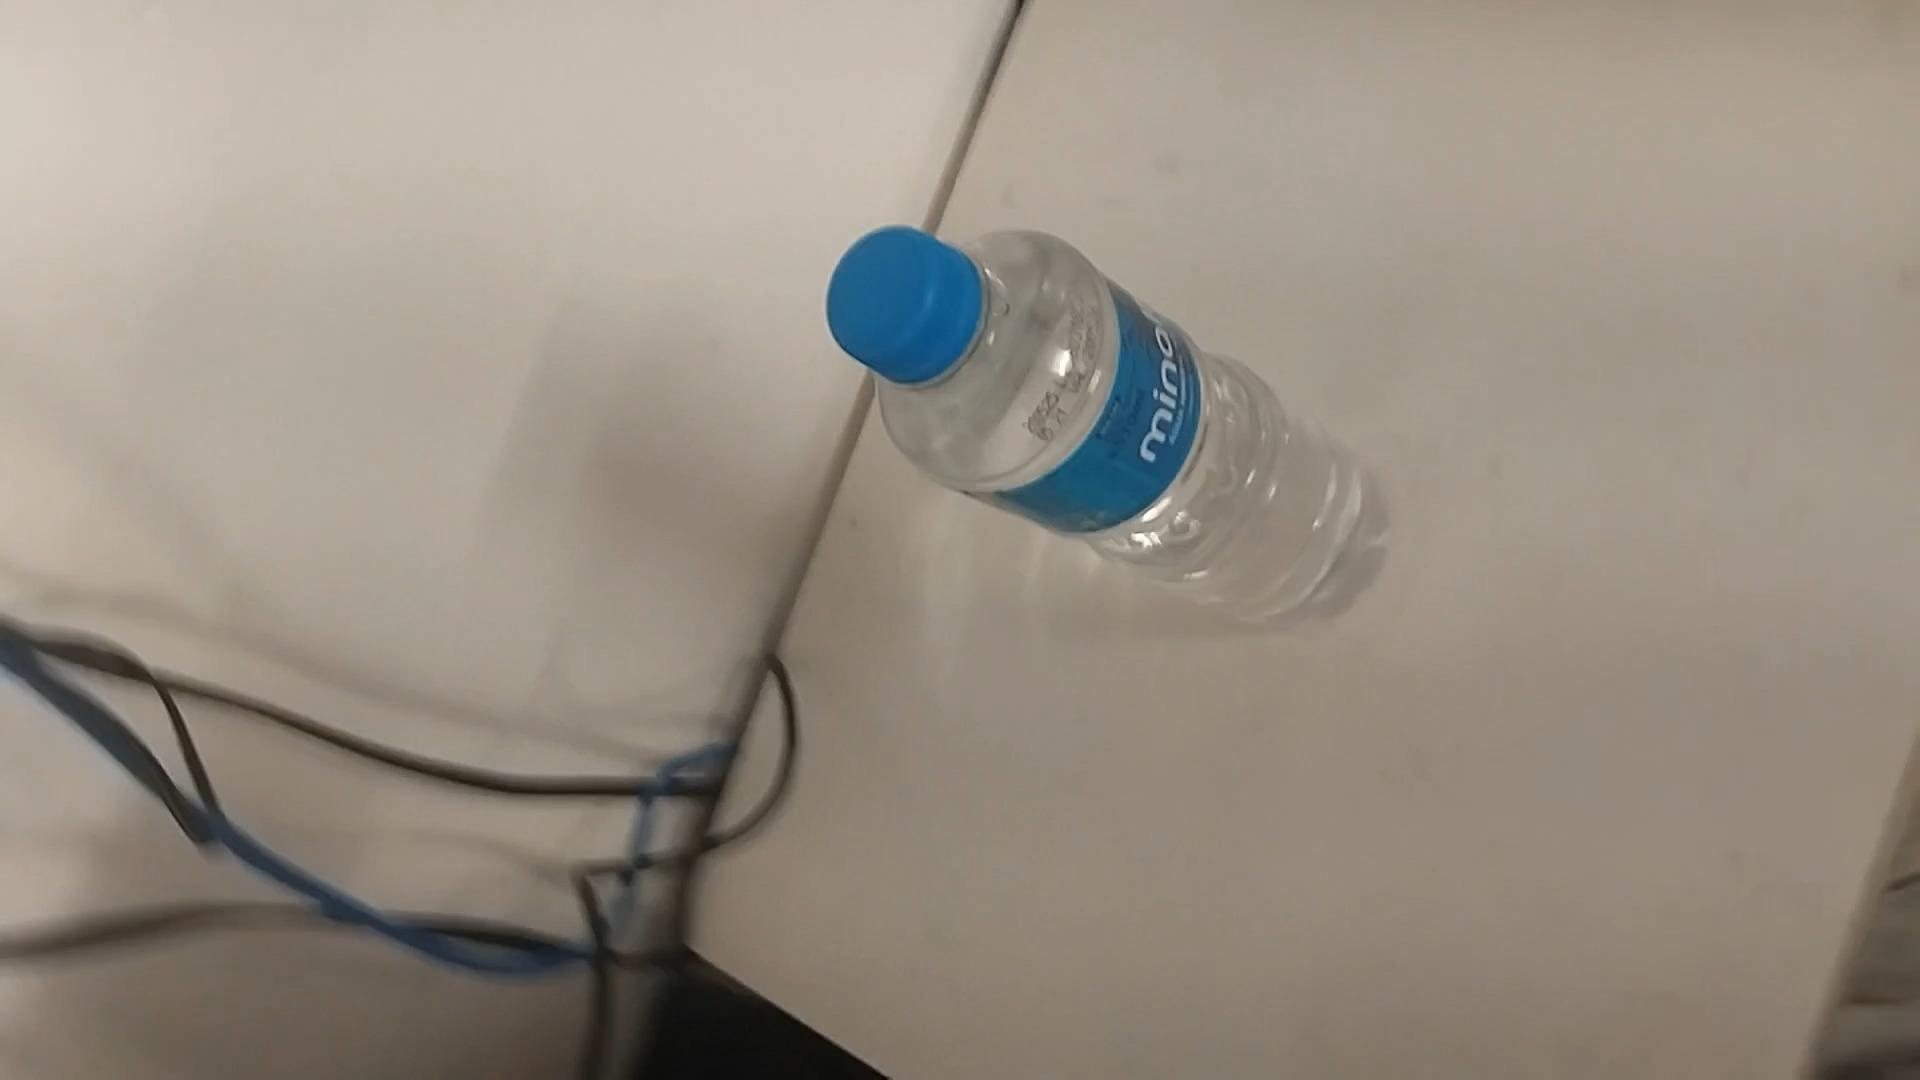agua: (835, 218, 1360, 620)
